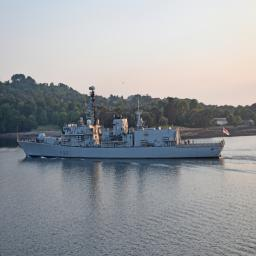Fragata: (17, 78, 229, 162)
